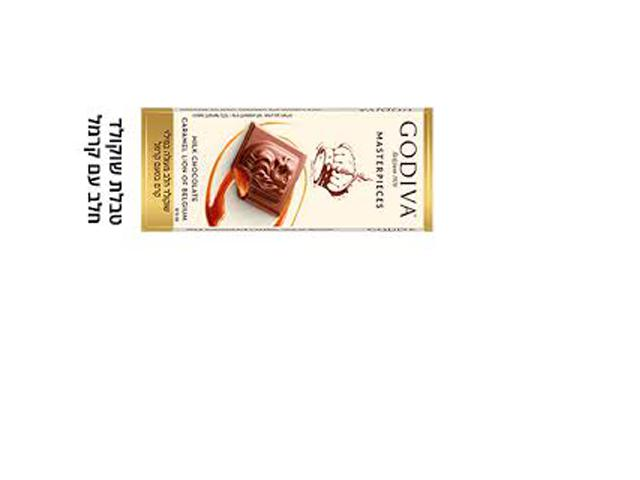chocolate: (129, 109, 438, 240)
